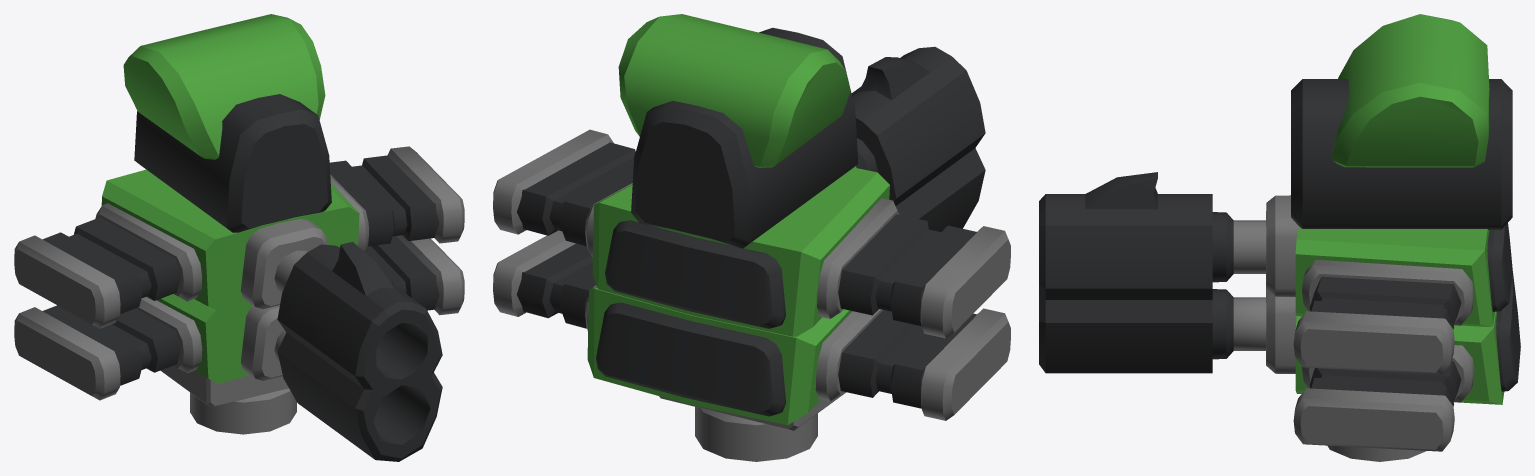
File: Shot_t_2_LP.fbx
3 views of the same model, side by side, from view 1: azimuth 30°, elevation 25°; view 2: azimuth 150°, elevation 25°; view 3: azimuth 270°, elevation 25° (orthographic). The views are drawn at different scales.
Visible parts, largest first — view 1: Shot_t_2; view 2: Shot_t_2; view 3: Shot_t_2.
Part boxes in pixels (left/top/right/bottom): Shot_t_2: left=14, top=14, right=464, bottom=461; Shot_t_2: left=493, top=14, right=1010, bottom=461; Shot_t_2: left=1039, top=14, right=1520, bottom=461.
Bounding box in the file's own units: 149 × 129 × 145.
